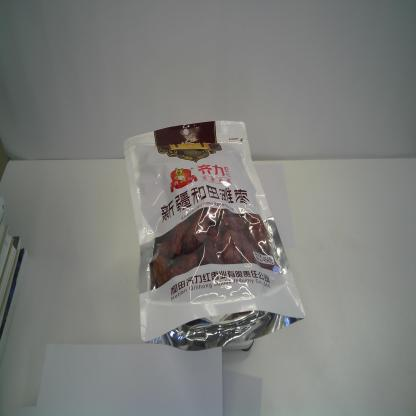Dried Food: (121, 118, 307, 354)
